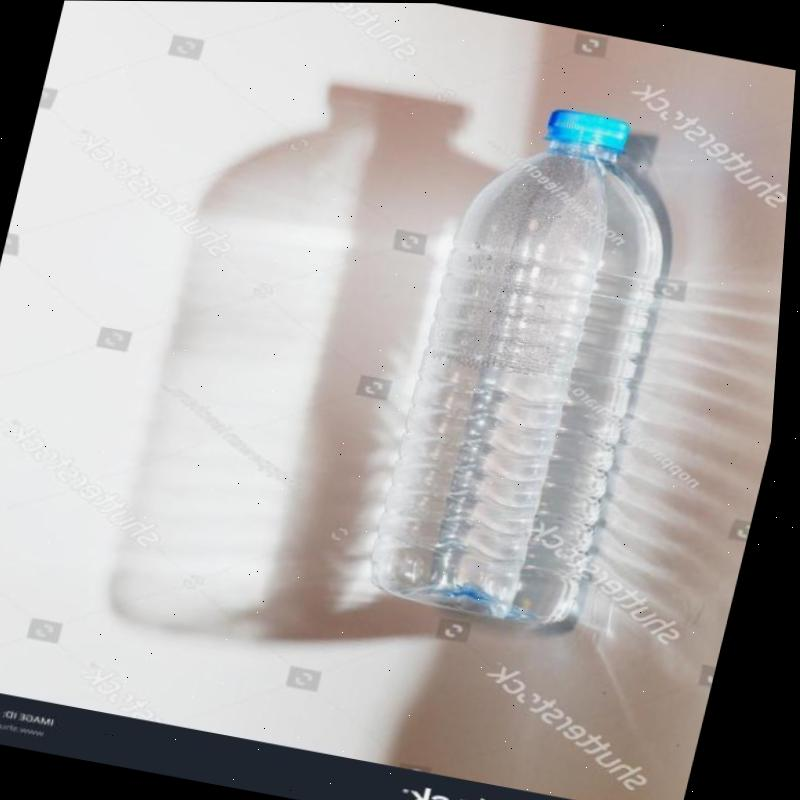botella: (366, 88, 706, 639)
